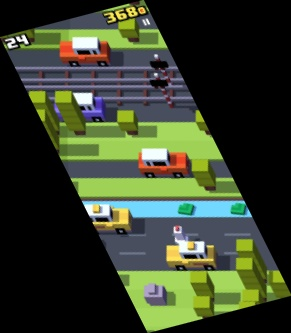car: (137, 148, 192, 179), (79, 204, 134, 235), (54, 91, 107, 123), (58, 36, 112, 67), (165, 240, 218, 271)
duck: (171, 225, 190, 249)
light off: (147, 73, 176, 109), (148, 54, 174, 86)
lilypad: (178, 202, 194, 217), (230, 202, 247, 215)
rail: (20, 84, 203, 105), (9, 66, 190, 86)
rock: (143, 283, 168, 306)
tree: (27, 108, 61, 159), (235, 257, 270, 303), (27, 90, 60, 136), (54, 90, 87, 136), (236, 239, 268, 284), (190, 270, 217, 304), (192, 158, 218, 193), (239, 290, 263, 322), (238, 302, 261, 333), (15, 13, 37, 45), (192, 296, 216, 325), (271, 270, 291, 304), (116, 109, 139, 137), (118, 17, 141, 43), (194, 109, 216, 136)
water: (77, 200, 255, 217)
